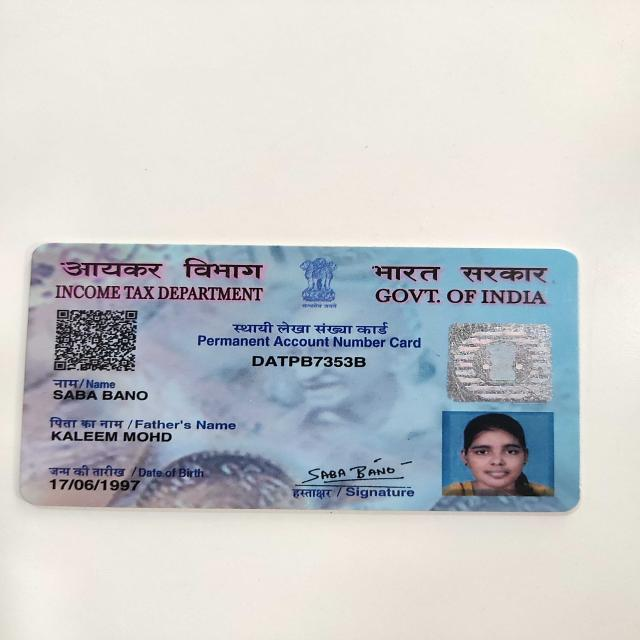pan_card: (20, 246, 573, 508)
